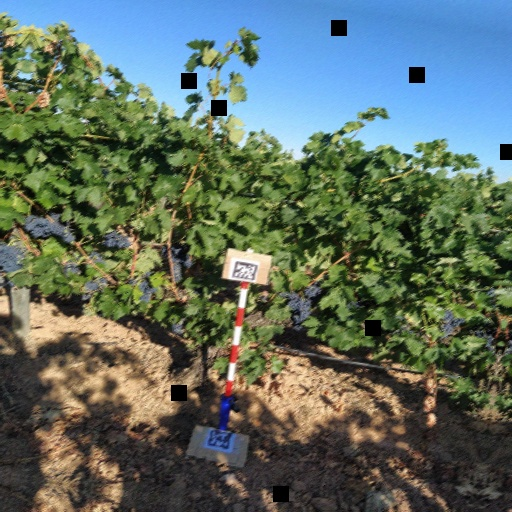QR: (232, 261, 258, 283), (207, 430, 232, 451)
